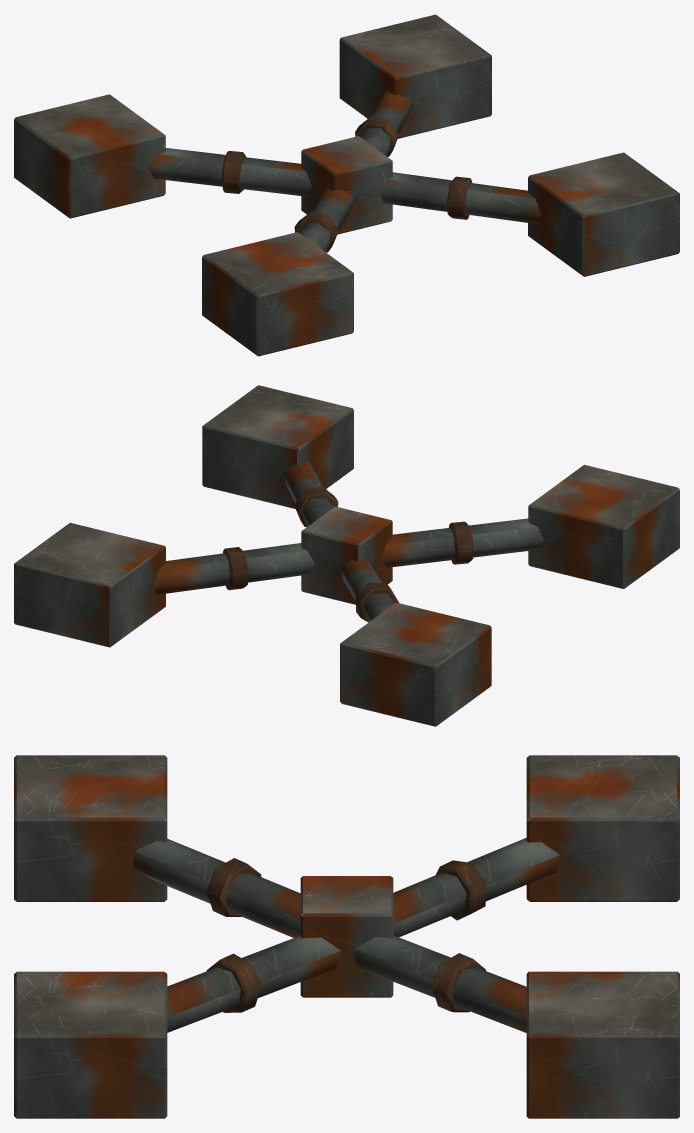
The model's file is R4C_ROD_CROSS_LOD1.glb.
3 views of the same model, one above another, from view 1: azimuth 30°, elevation 25°; view 2: azimuth 150°, elevation 25°; view 3: azimuth 270°, elevation 25° (orthographic). The views are drawn at different scales.
Parts seen in each view (by area): view 1: R4C_ROD_CROSS_LOD1; view 2: R4C_ROD_CROSS_LOD1; view 3: R4C_ROD_CROSS_LOD1.
Boxes of the visible parts, x1,y1,x2,y2 form: R4C_ROD_CROSS_LOD1: (14, 14, 679, 356); R4C_ROD_CROSS_LOD1: (14, 385, 679, 726); R4C_ROD_CROSS_LOD1: (14, 755, 679, 1118).
Size of the model in its own units: 1.62 by 0.226 by 1.62.
3 materials, 3 textured.
